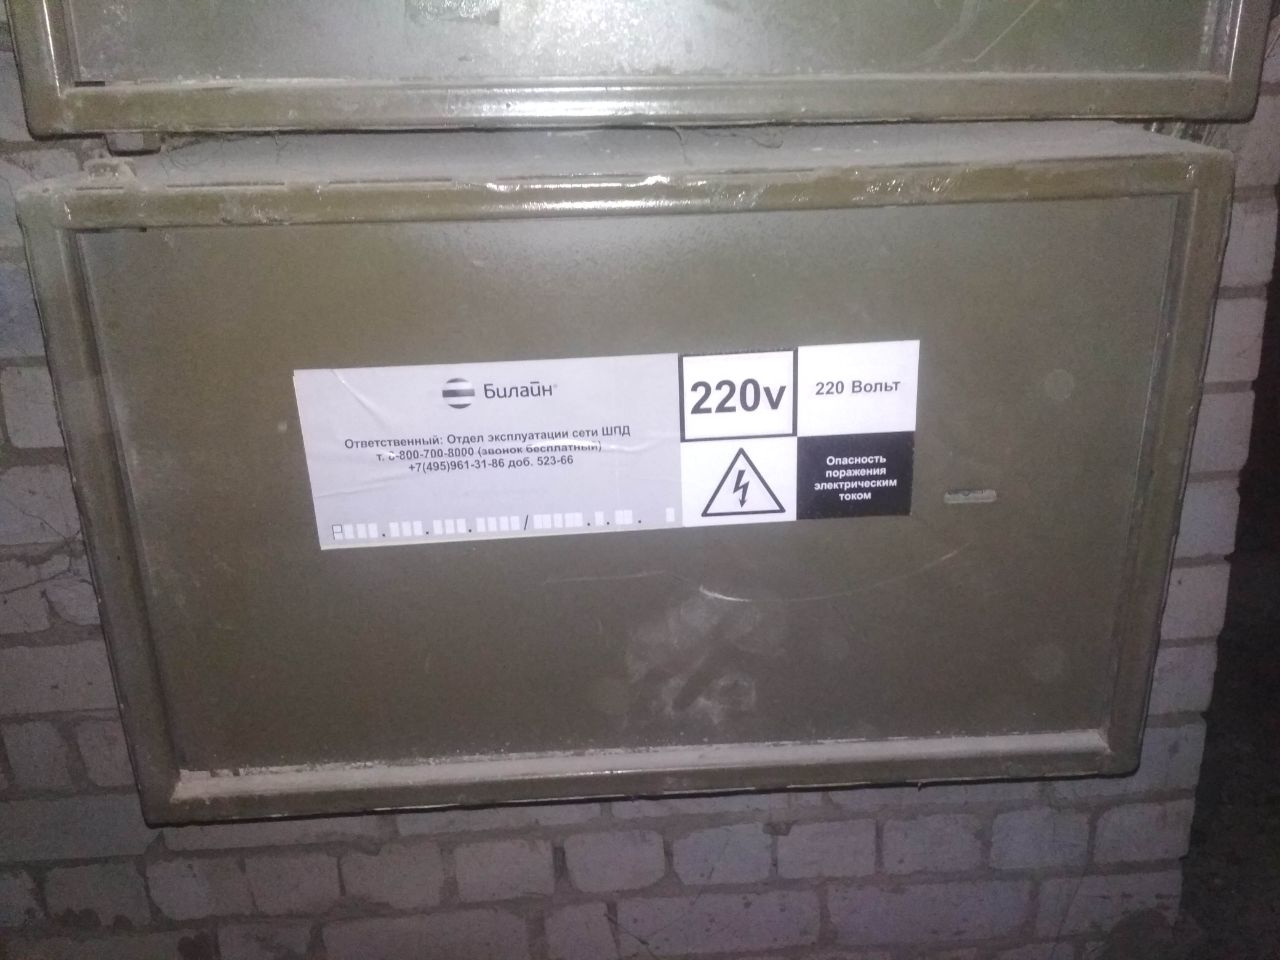e2-6u: (8, 138, 1255, 835)
